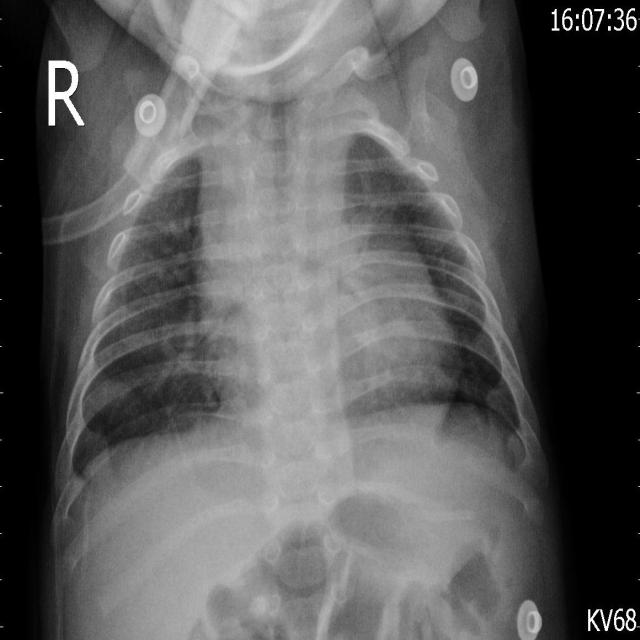low-pneumonia: (353, 151, 409, 255)
